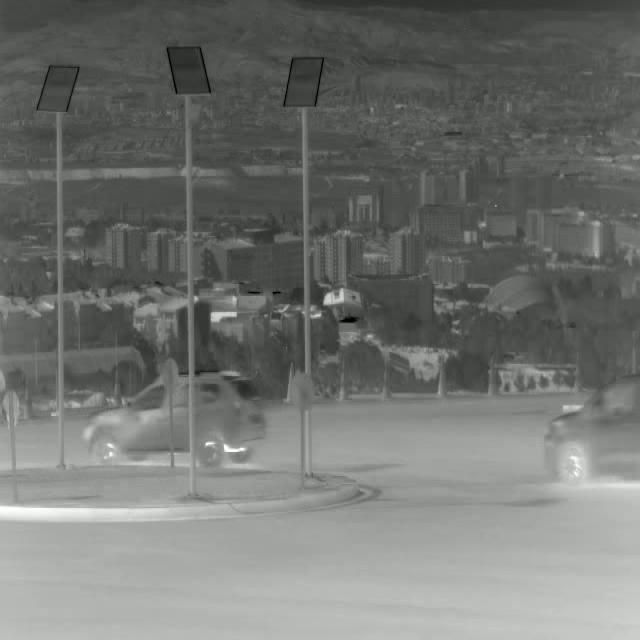Car: (82, 372, 264, 463), (541, 374, 640, 482)
